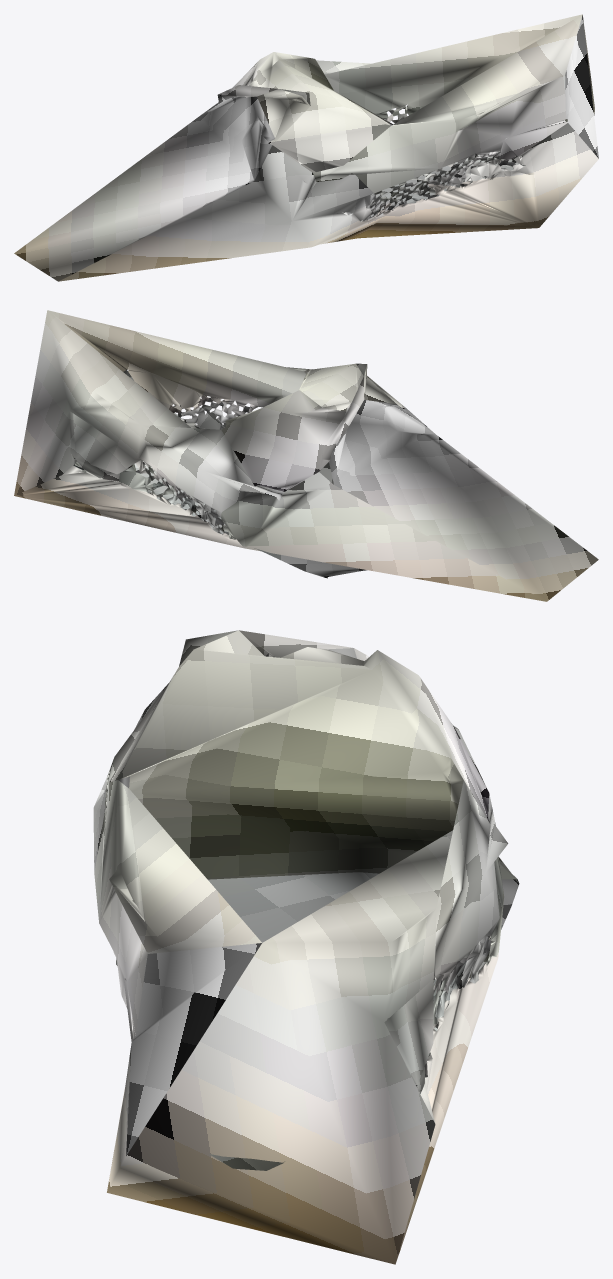
File: Womens_Bluefish_2Eye_Boat_Shoe_in_White_Tumbled_YG44xIePRHw-low.glb
3 views of the same model, one above another, from view 1: azimuth 30°, elevation 25°; view 2: azimuth 150°, elevation 25°; view 3: azimuth 270°, elevation 25° (orthographic). The views are drawn at different scales.
Visible parts, largest first — view 1: Womens_Bluefish_2Eye_Boat_Shoe_in_White_Tumbled_YG44xIePRHw; view 2: Womens_Bluefish_2Eye_Boat_Shoe_in_White_Tumbled_YG44xIePRHw; view 3: Womens_Bluefish_2Eye_Boat_Shoe_in_White_Tumbled_YG44xIePRHw.
Boxes of the visible parts, x1,y1,x2,y2 form: Womens_Bluefish_2Eye_Boat_Shoe_in_White_Tumbled_YG44xIePRHw: [14, 14, 598, 281]; Womens_Bluefish_2Eye_Boat_Shoe_in_White_Tumbled_YG44xIePRHw: [14, 310, 598, 601]; Womens_Bluefish_2Eye_Boat_Shoe_in_White_Tumbled_YG44xIePRHw: [93, 630, 519, 1264].
Size of the model in its own units: 0.2394 by 0.0739 by 0.0815.
Materials: 1 (1 with a texture image).
